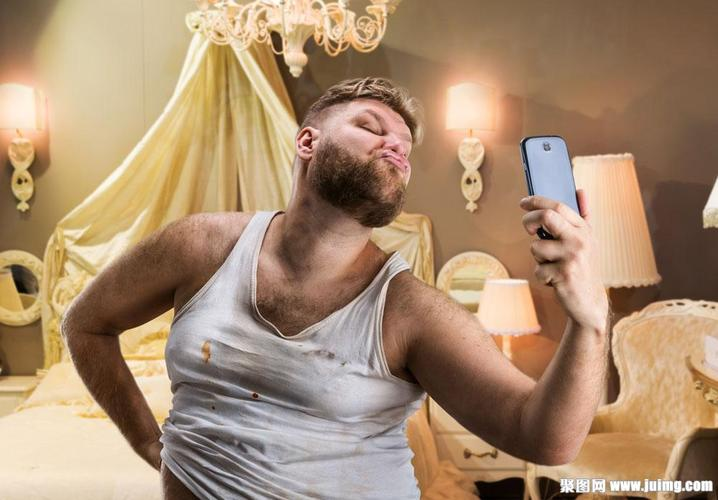taking photos: (516, 132, 613, 333)
